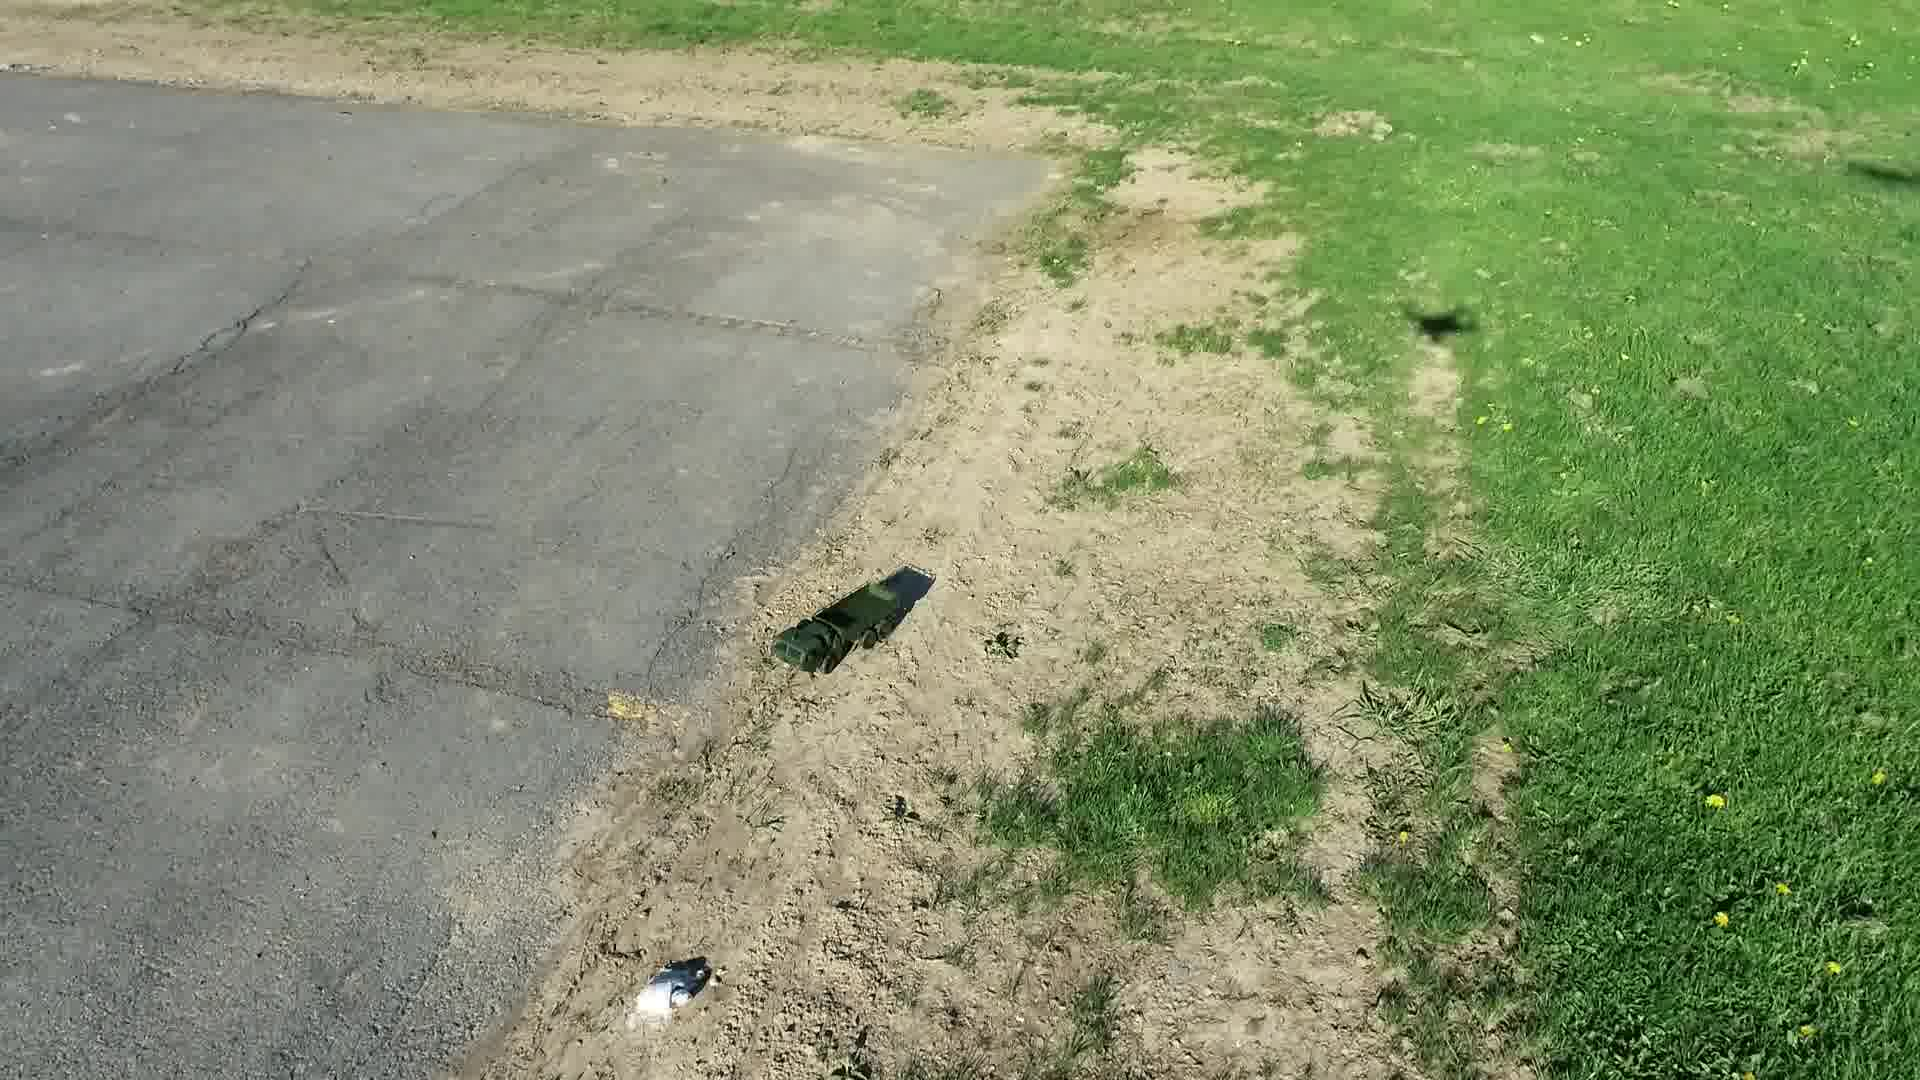transporter9: (765, 572, 918, 676)
